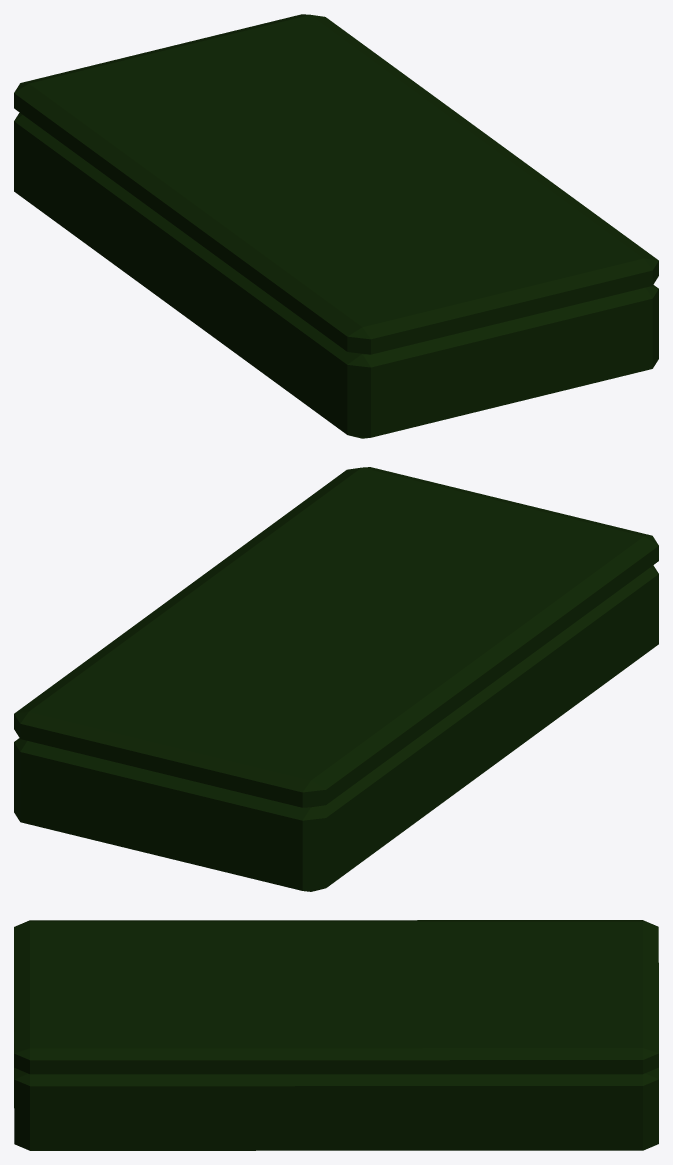
Rendered from Dish_Sponge_1.obj.
The picture shows the model from 3 angles, top to bottom: view 1: azimuth 30°, elevation 25°; view 2: azimuth 150°, elevation 25°; view 3: azimuth 270°, elevation 25°; orthographic projection. The views are drawn at different scales.
Bounding box in the file's own units: 0.0712 × 0.0243 × 0.1384.
